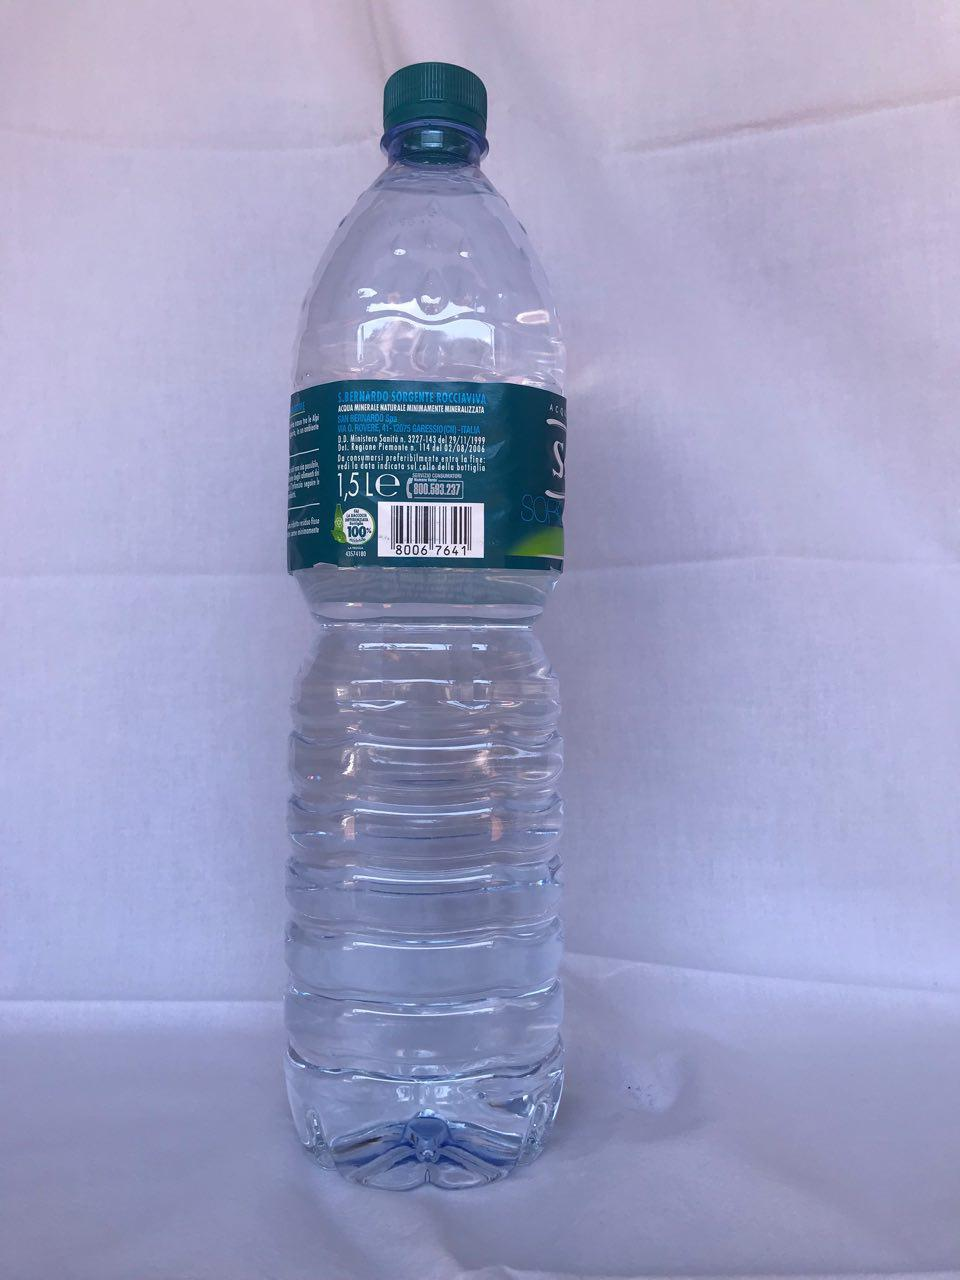san_bernardo: (281, 58, 569, 1191)
